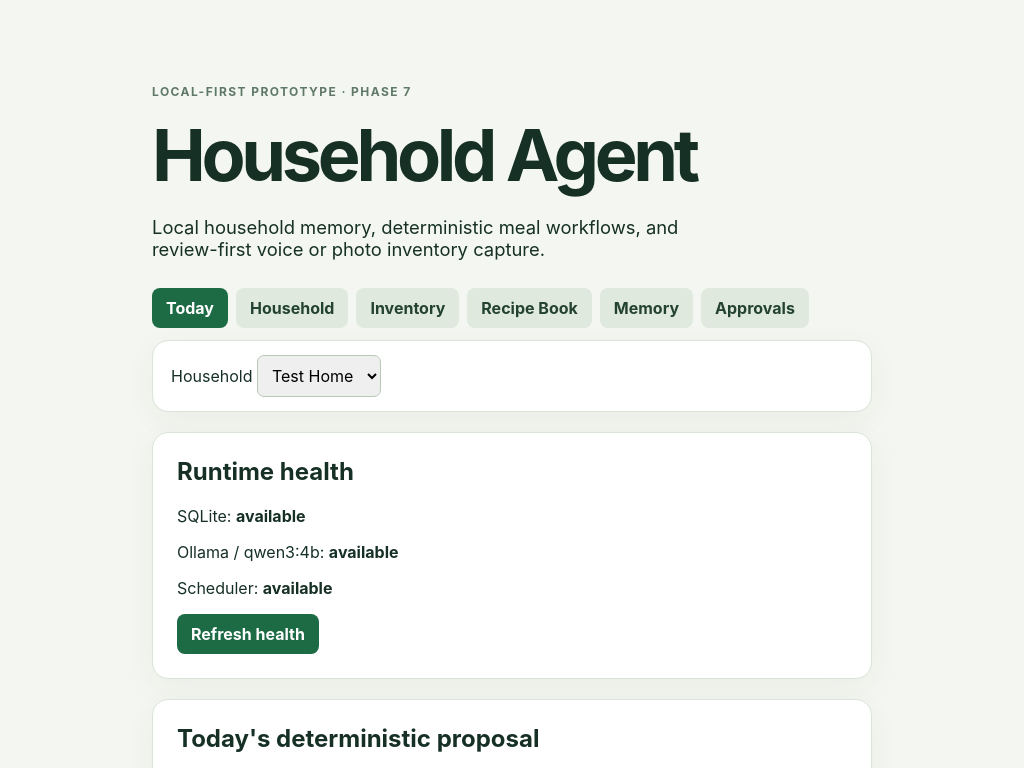
Test: household UI › renders the seeded household and its inventory screen
Click the button "inventory": (408, 308) top-left (356, 288), bottom-right (459, 328)
(page scrolled)
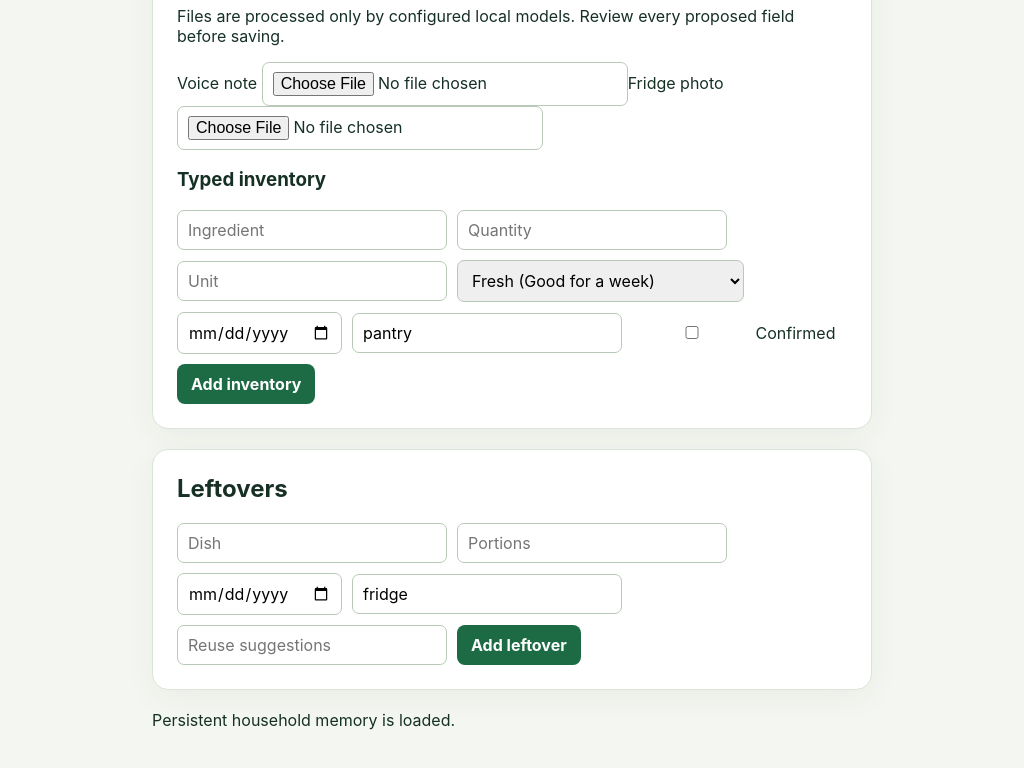
Expected: the button "Add inventory" is shown, top-left (177, 364), bottom-right (315, 404)
